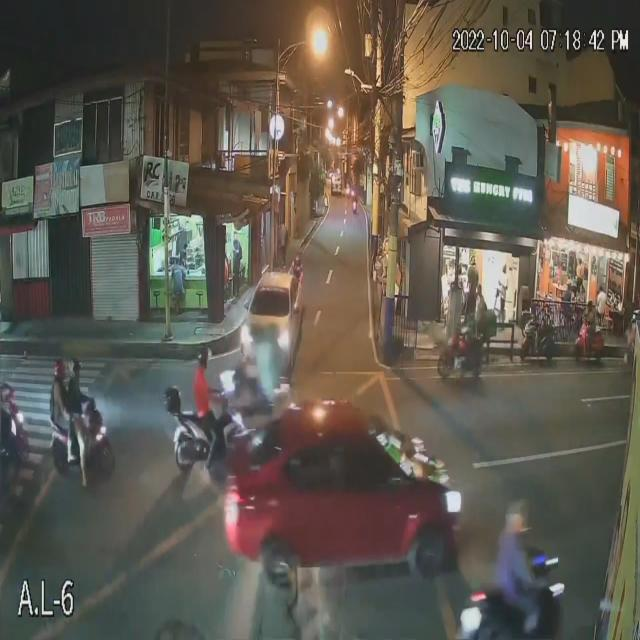Full-Faced: (503, 502, 527, 535), (196, 339, 212, 371), (68, 356, 86, 382), (51, 357, 69, 382)
